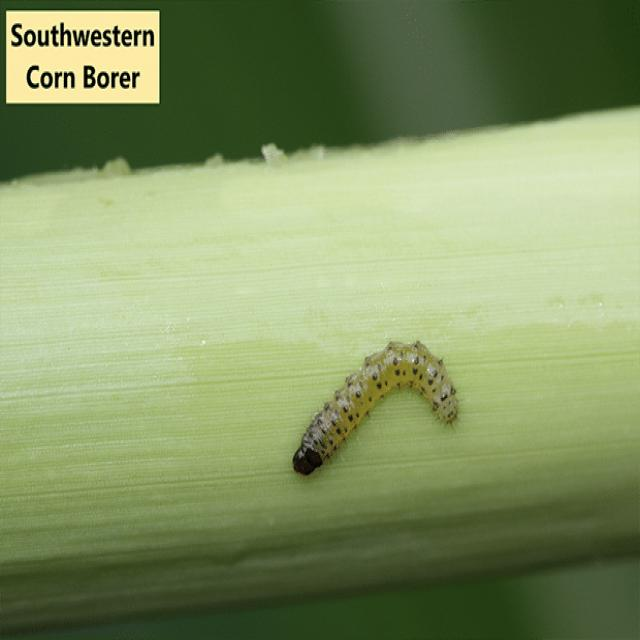cornborer-Larva-: (287, 332, 467, 482)
